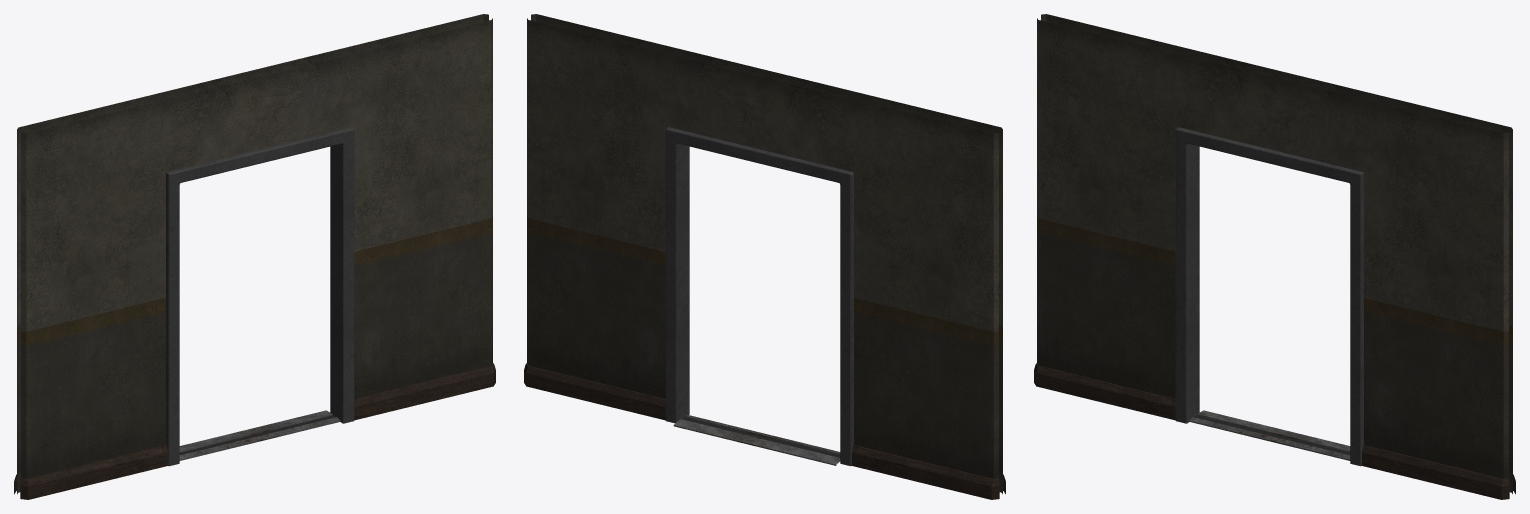
Rendered from elevator_doorway_1.fbx.
3 renders of one model, left to right at view 1: azimuth 30°, elevation 25°; view 2: azimuth 150°, elevation 25°; view 3: azimuth 330°, elevation 25°, orthographic.
Visible parts, largest first — view 1: elevator_doorway_1; view 2: elevator_doorway_1; view 3: elevator_doorway_1.
Boxes of the visible parts, left/top/right/bottom form: elevator_doorway_1: left=14, top=14, right=495, bottom=499; elevator_doorway_1: left=524, top=14, right=1005, bottom=499; elevator_doorway_1: left=1034, top=14, right=1515, bottom=499.
Size of the model in its own units: 409 by 300 by 25.
